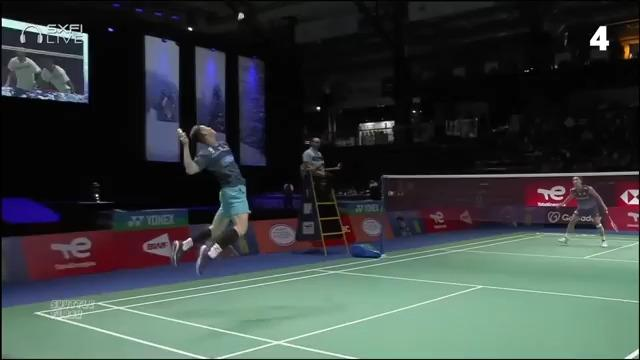Shuttlecock: (234, 11, 248, 23)
